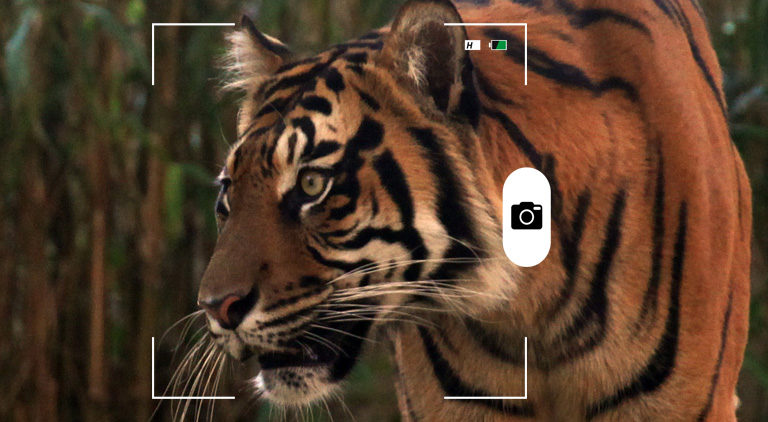Tigrew: (145, 8, 744, 411)
